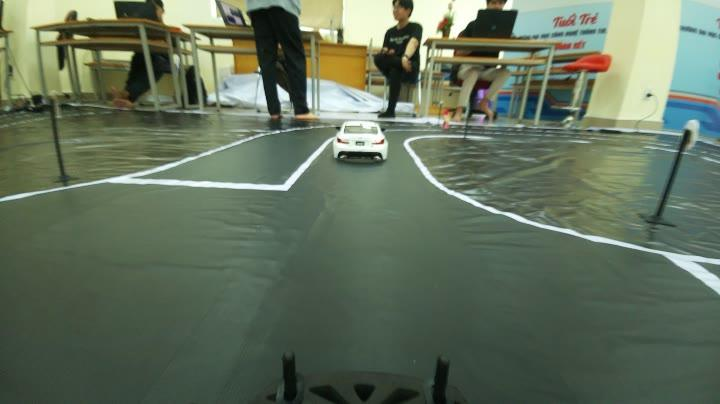car: (332, 112, 388, 162)
